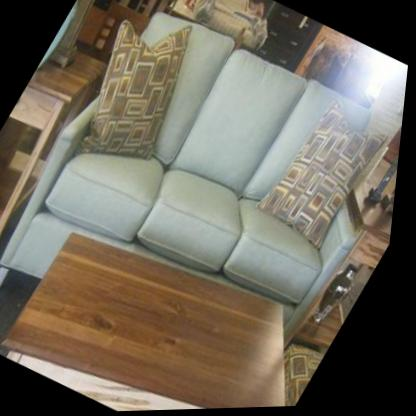Sofa: (0, 0, 416, 416)
Table: (0, 192, 359, 416), (0, 37, 113, 257)
